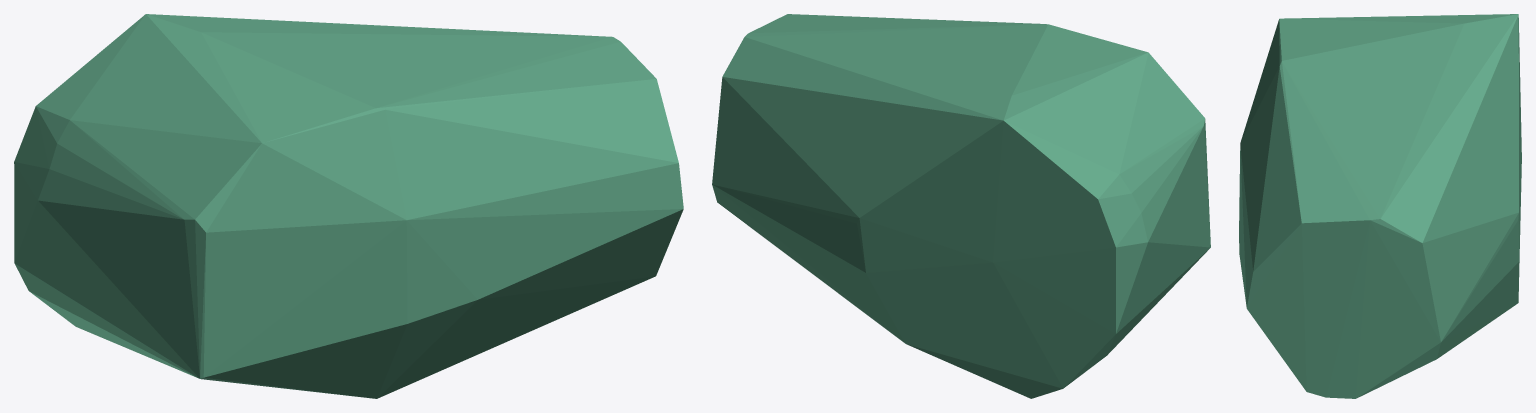
The model's file is steeringSystem_power_steering_pump_b01.glb.
3 views of the same model, side by side, from view 1: azimuth 30°, elevation 25°; view 2: azimuth 150°, elevation 25°; view 3: azimuth 270°, elevation 25° (orthographic). The views are drawn at different scales.
Parts seen in each view (by area): view 1: geometry_0; view 2: geometry_0; view 3: geometry_0.
Part boxes in pixels (x1,y1,x2,y2): geometry_0: (14,14,683,398); geometry_0: (712,14,1210,398); geometry_0: (1239,14,1521,398).
Size of the model in its own units: 0.4598 by 0.2723 by 0.2558.
